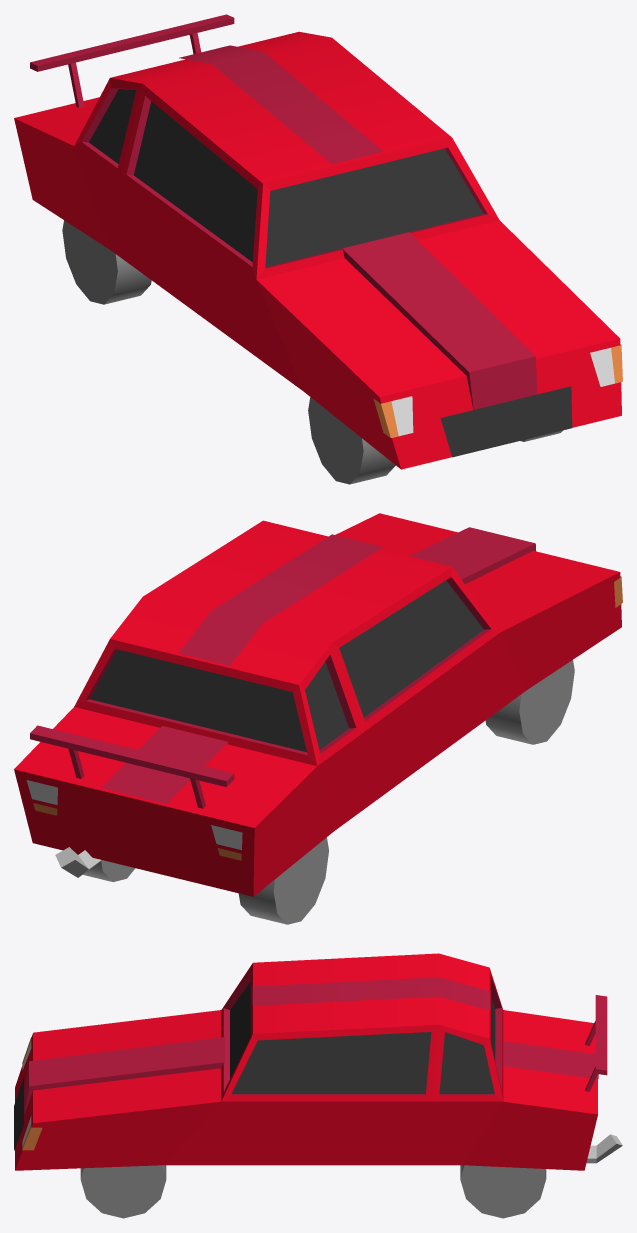
The model's file is sportscar_04.fbx.
3 renders of one model, top to bottom at view 1: azimuth 30°, elevation 25°; view 2: azimuth 150°, elevation 25°; view 3: azimuth 270°, elevation 25°, orthographic. The views are drawn at different scales.
Visible parts, largest first — view 1: sportscar_04; view 2: sportscar_04; view 3: sportscar_04.
Boxes of the visible parts, bbox=[...] form: sportscar_04: bbox=[14, 14, 622, 484]; sportscar_04: bbox=[14, 513, 622, 924]; sportscar_04: bbox=[14, 953, 622, 1218].
Bounding box in the file's own units: 1.6 × 1.56 × 4.49.
